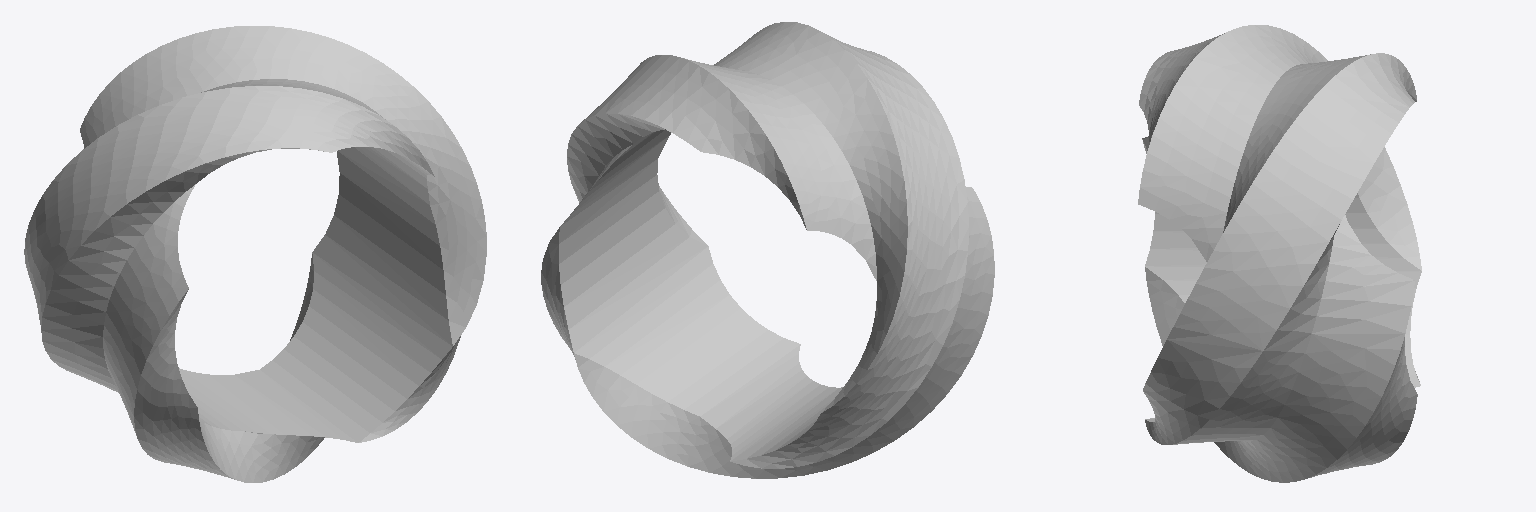
The model's file is aeon.obj.
3 renders of one model, left to right at view 1: azimuth 30°, elevation 25°; view 2: azimuth 150°, elevation 25°; view 3: azimuth 270°, elevation 25°, orthographic.
Size of the model in its own units: 21.47 by 20.84 by 13.32.